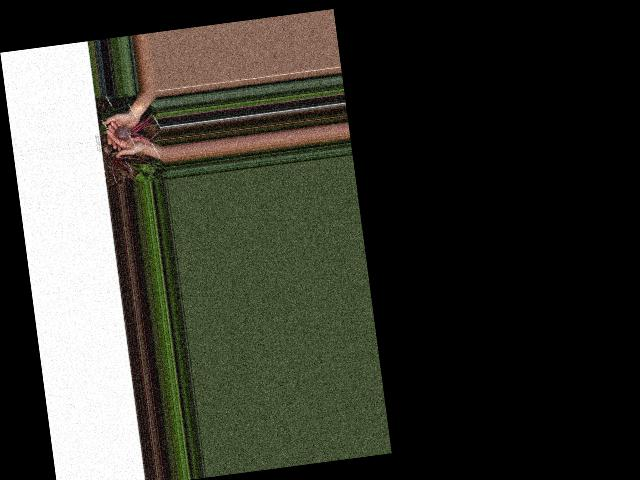beet: (111, 112, 160, 145)
